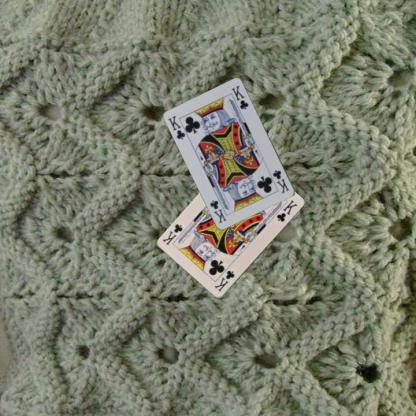Kc: (211, 268, 236, 293), (166, 112, 186, 140), (270, 168, 290, 194)
